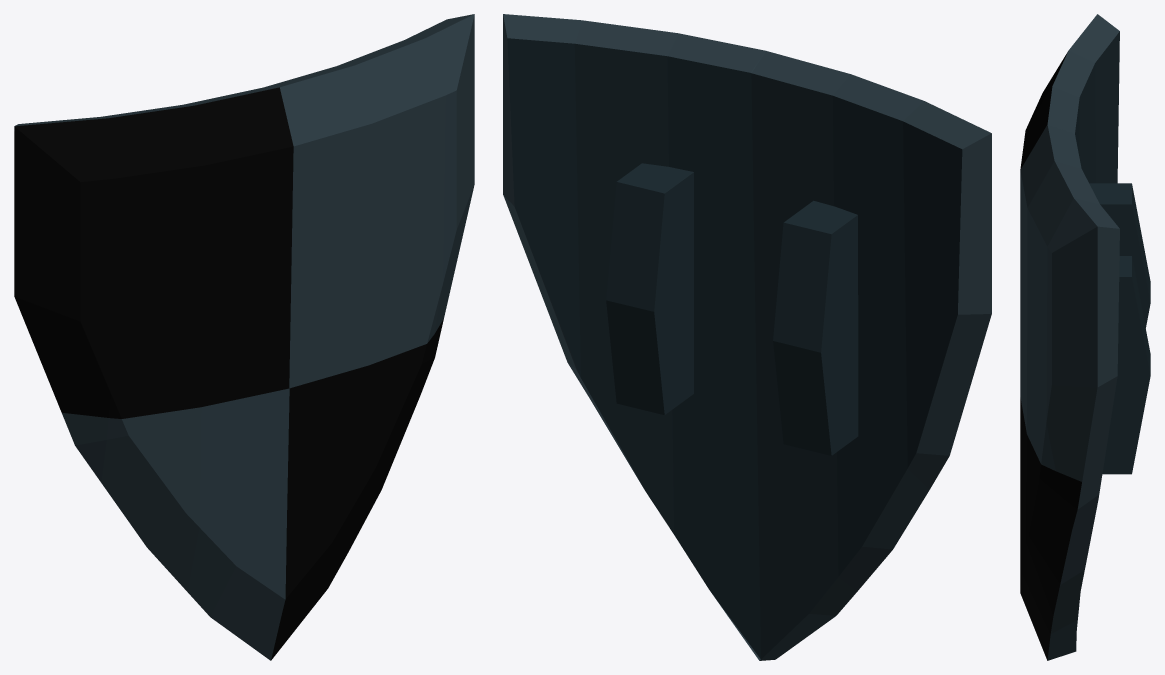
Rendered from Shield 02.fbx.
3 views of the same model, side by side, from view 1: azimuth 30°, elevation 25°; view 2: azimuth 150°, elevation 25°; view 3: azimuth 270°, elevation 25° (orthographic). The views are drawn at different scales.
Parts seen in each view (by area): view 1: Shiled 02; view 2: Shiled 02; view 3: Shiled 02.
Boxes of the visible parts, x1,y1,x2,y2 form: Shiled 02: [14, 14, 474, 660]; Shiled 02: [503, 14, 991, 660]; Shiled 02: [1020, 14, 1150, 660].
Size of the model in its own units: 82.17 by 97.46 by 21.31.
